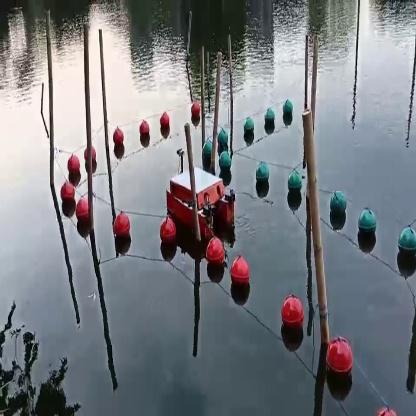green_buoy: (395, 227, 415, 272), (358, 208, 376, 248), (328, 192, 348, 226), (286, 173, 302, 209), (217, 148, 234, 176), (255, 160, 268, 191), (282, 95, 294, 124), (243, 117, 254, 145), (202, 138, 212, 164), (264, 110, 276, 130), (218, 125, 226, 148)
red_buoy: (325, 336, 355, 386), (230, 250, 252, 301), (280, 290, 302, 336), (155, 214, 176, 248), (111, 212, 130, 244), (208, 236, 223, 272), (67, 152, 82, 178), (113, 124, 126, 153), (58, 182, 74, 204), (75, 199, 88, 223), (138, 119, 148, 144), (160, 112, 168, 136), (192, 101, 198, 120)
